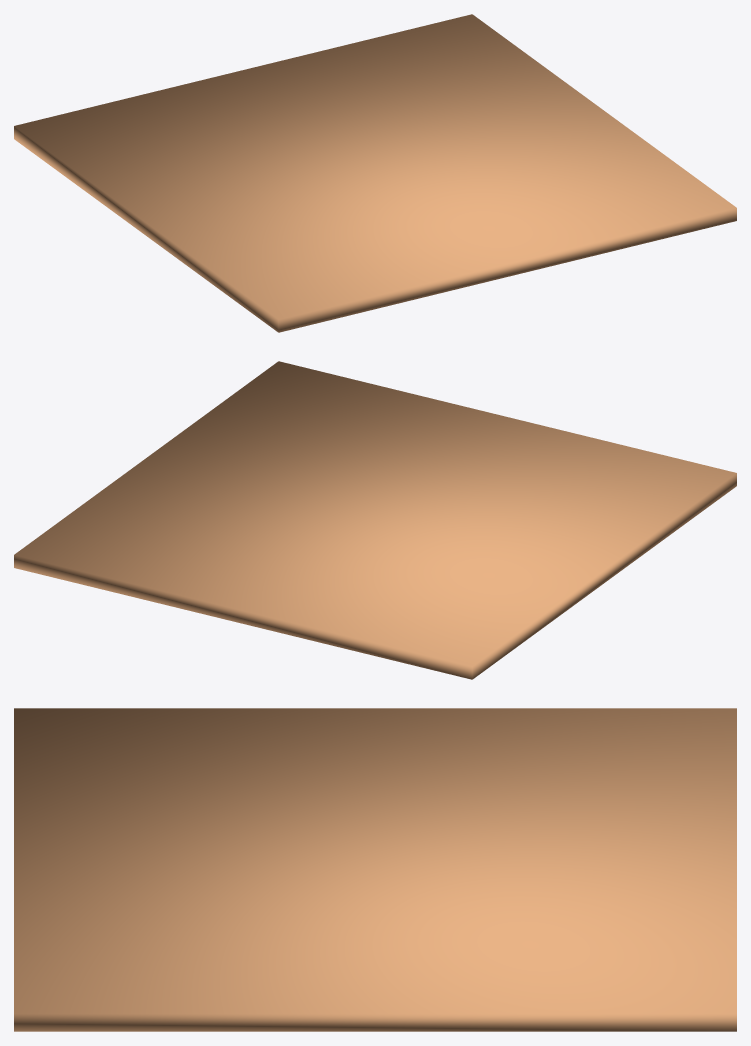
File: piadina_integrale_mini.fbx
The picture shows the model from 3 angles, top to bottom: view 1: azimuth 30°, elevation 25°; view 2: azimuth 150°, elevation 25°; view 3: azimuth 270°, elevation 25°; orthographic projection. The views are drawn at different scales.
Parts seen in each view (by area): view 1: integrale; view 2: integrale; view 3: integrale.
Part boxes in pixels (x1,y1,x2,y2): integrale: (14, 14, 736, 332); integrale: (14, 361, 736, 679); integrale: (14, 708, 736, 1031).
Bounding box in the file's own units: 200 × 5.47 × 200.
